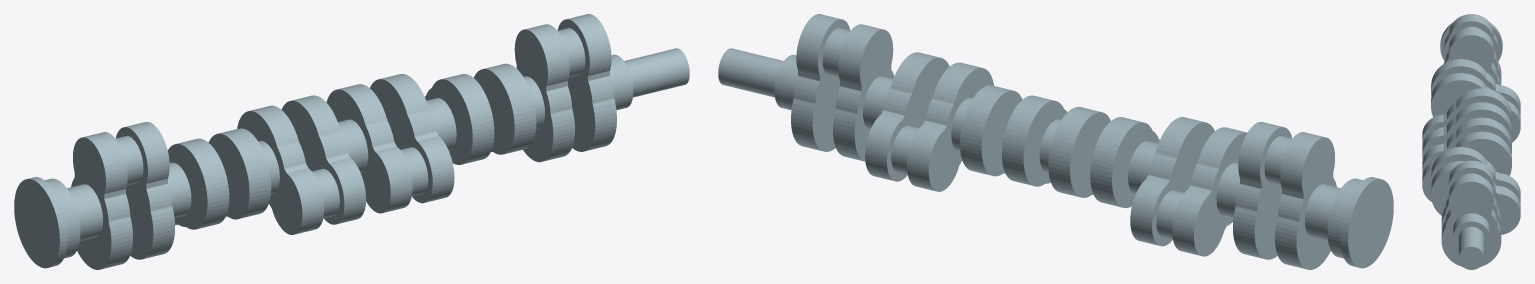
The model's file is crankshaft.glb.
The picture shows the model from 3 angles, left to right: view 1: azimuth 30°, elevation 25°; view 2: azimuth 150°, elevation 25°; view 3: azimuth 270°, elevation 25°; orthographic projection. The views are drawn at different scales.
Parts seen in each view (by area): view 1: world; view 2: world; view 3: world.
Boxes of the visible parts, <box> form: world: <box>14,14,689,269</box>; world: <box>718,14,1393,269</box>; world: <box>1422,14,1520,269</box>.
Size of the model in its own units: 0.8284 by 0.1565 by 0.1615.
